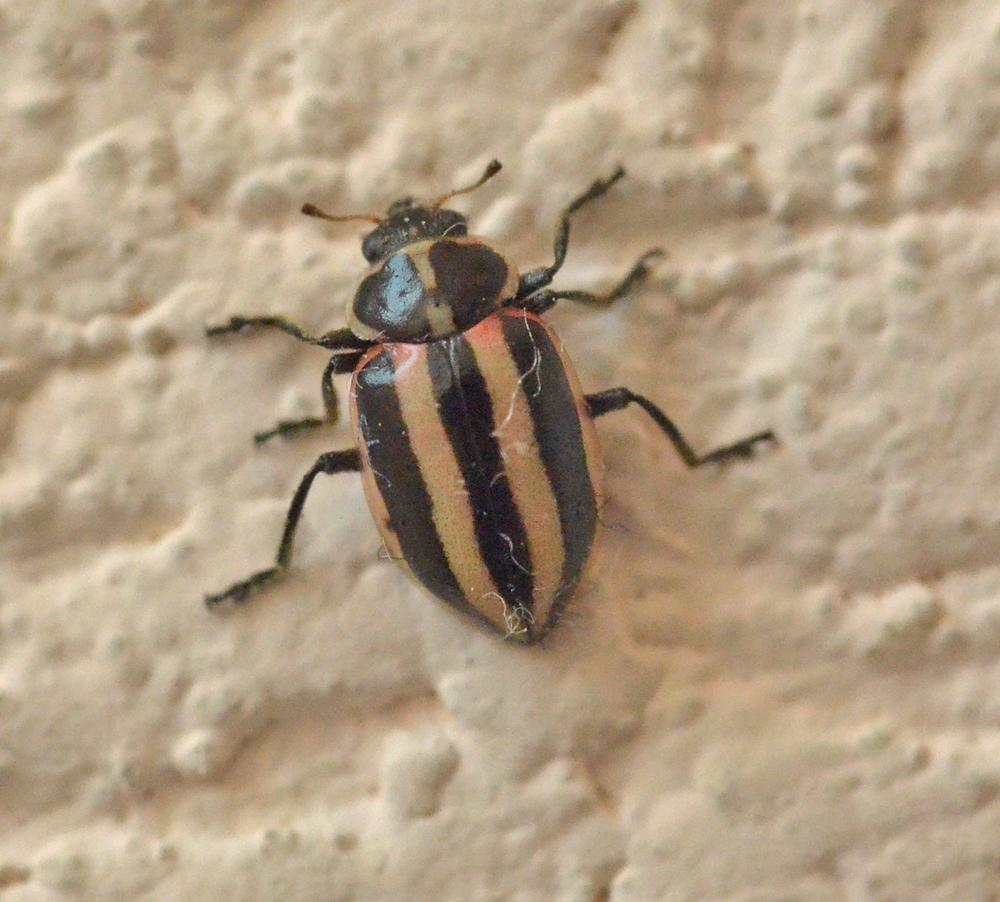ladybug: (201, 156, 786, 651)
